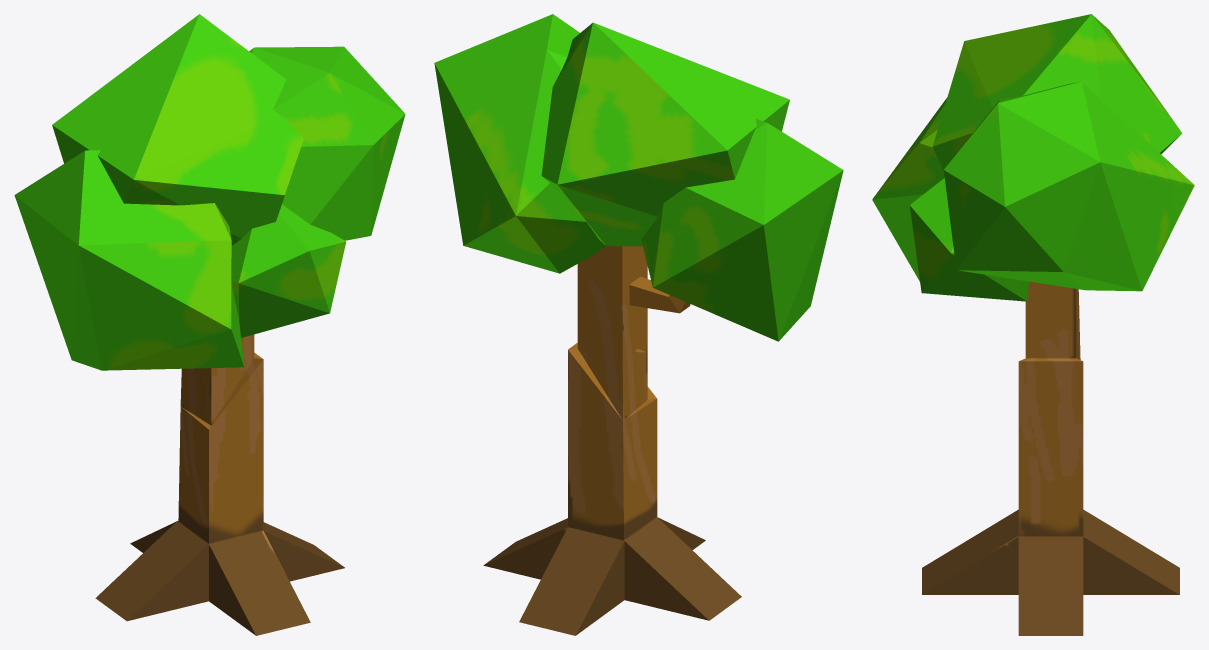
File: tree_chesburg_7.glb
The picture shows the model from 3 angles, left to right: view 1: azimuth 30°, elevation 25°; view 2: azimuth 150°, elevation 25°; view 3: azimuth 270°, elevation 25°; orthographic projection. The views are drawn at different scales.
Visible parts, largest first — view 1: trunk_2.001; view 2: trunk_2.001; view 3: trunk_2.001.
Boxes of the visible parts, box(x1,y1,x2,y2) form: trunk_2.001: box(14, 14, 405, 635); trunk_2.001: box(434, 14, 843, 635); trunk_2.001: box(872, 14, 1194, 635).
Size of what is drawn, in the model's own units: 6.31 by 9.7 by 5.
1 material, 1 textured.
